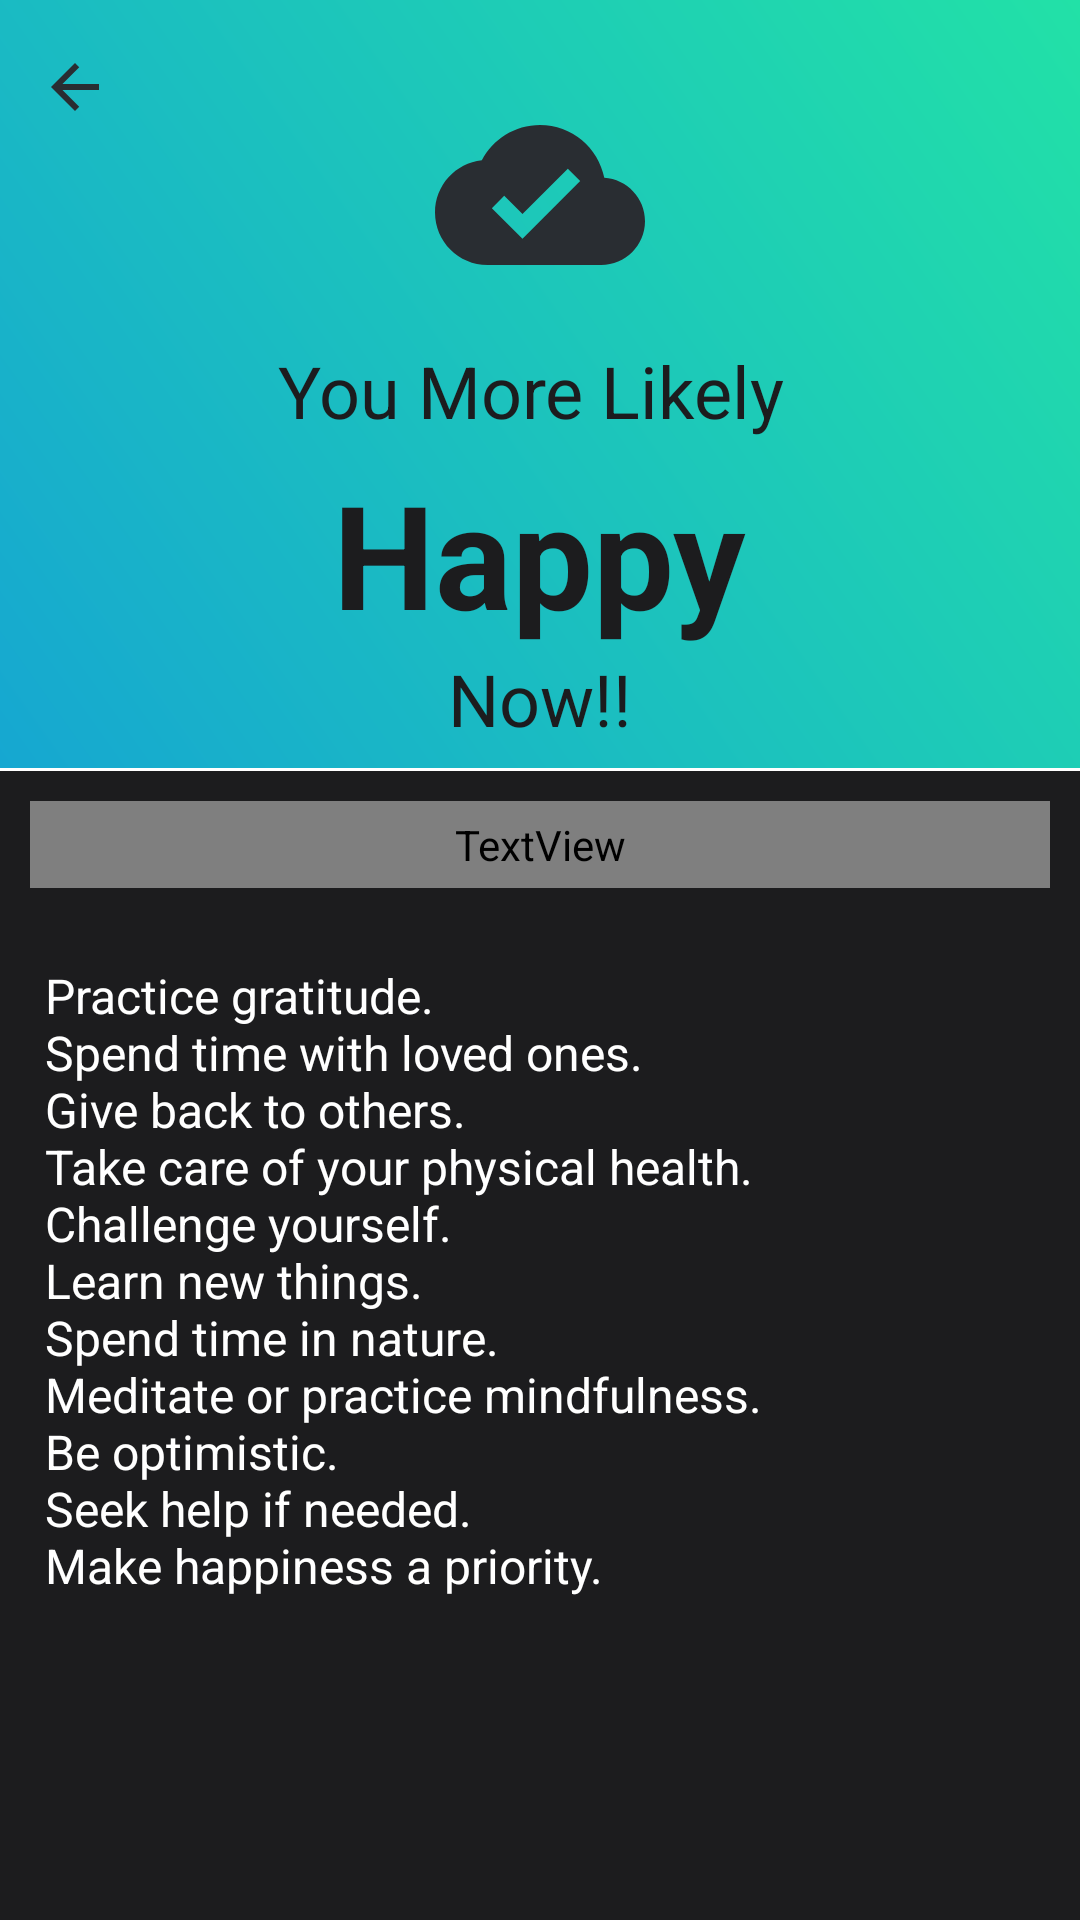

Icon bounding boxes for this 1080x1920 phone screenshot, format (x1, y1, x2, y2):
arrow back: (51, 63, 99, 111)
cloud done: (435, 125, 645, 265)
